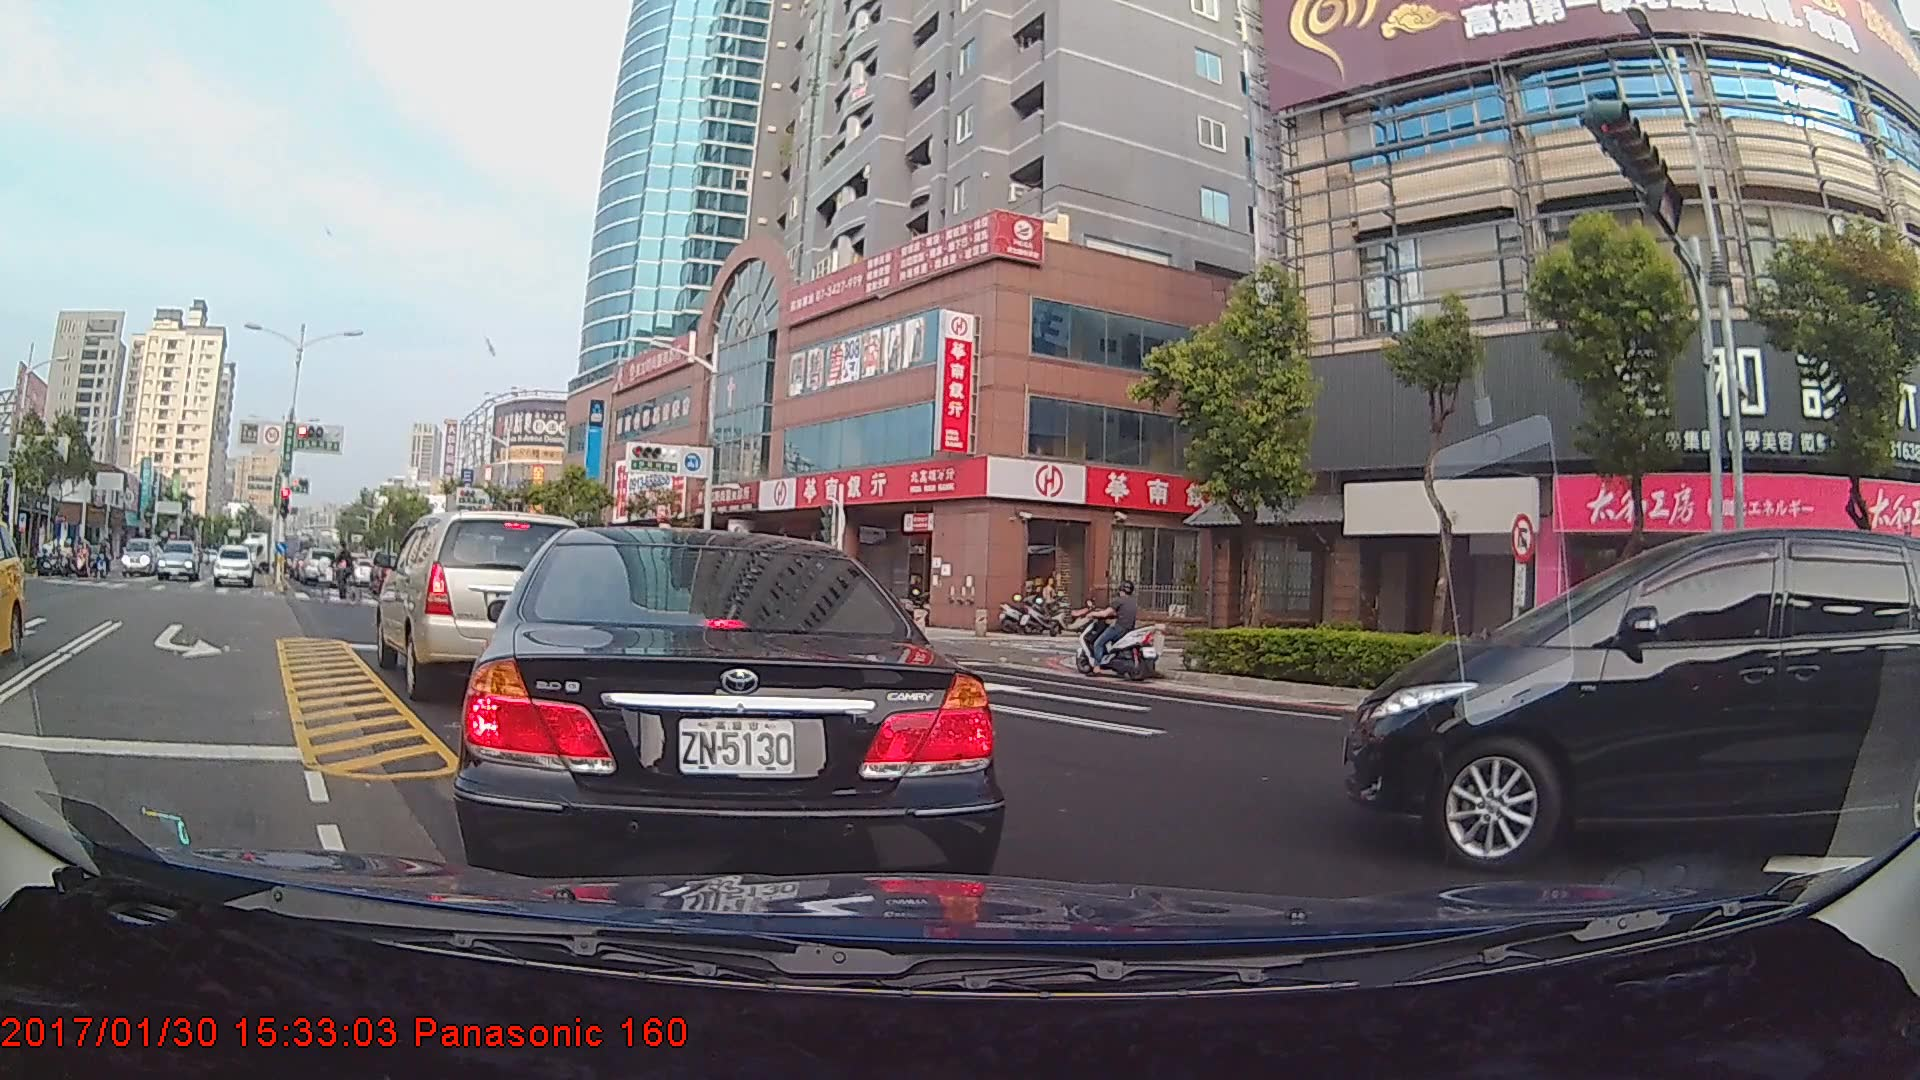pedestrian: (1040, 578, 1060, 622)
rider: (1068, 577, 1169, 687), (311, 541, 376, 605)
vehicle: (450, 522, 1007, 897), (1344, 522, 1904, 891), (373, 506, 589, 699), (0, 538, 26, 660), (239, 530, 294, 572), (156, 538, 201, 581), (212, 544, 253, 587), (122, 537, 164, 577), (297, 547, 335, 586)
